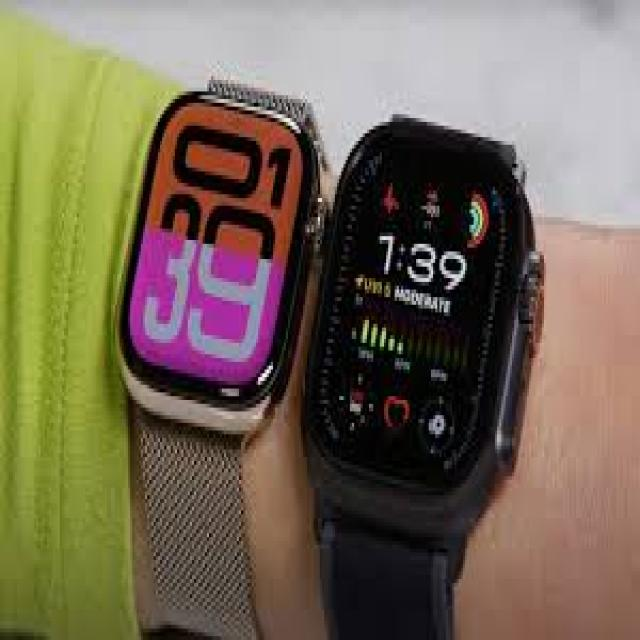objects: (300, 118, 548, 540), (112, 69, 312, 446)
